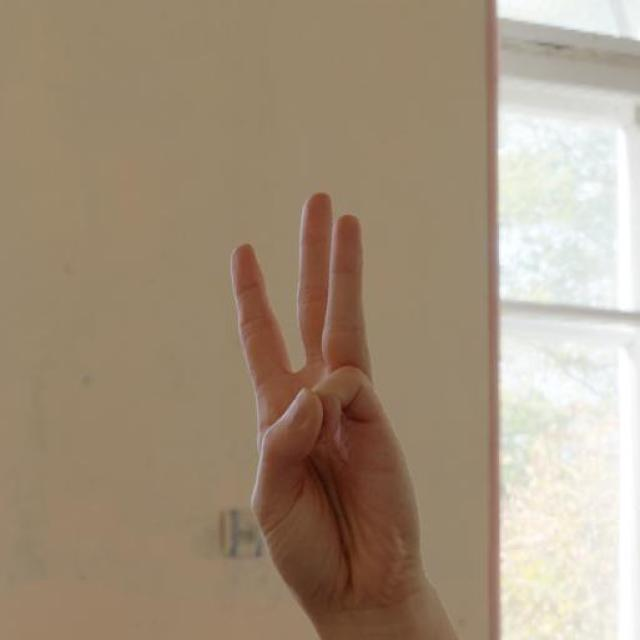W: (224, 185, 428, 626)
